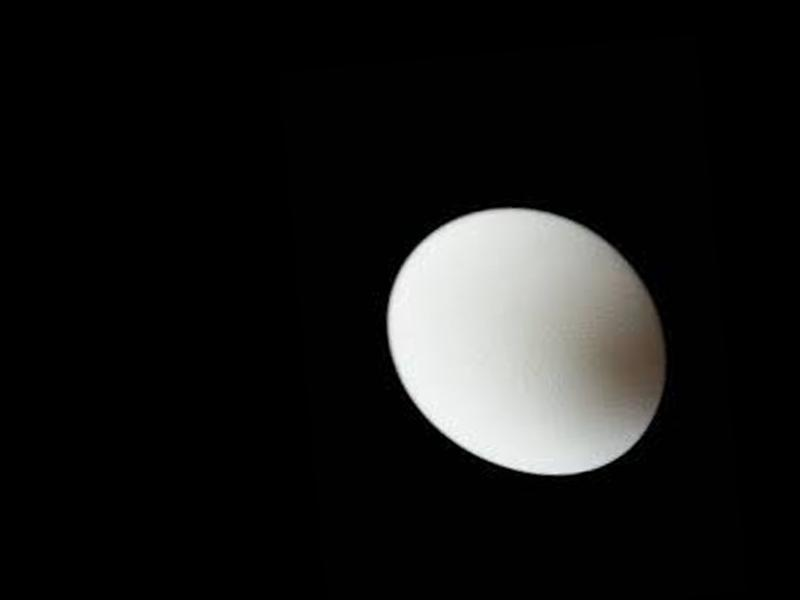Eggs: (377, 196, 671, 490)
